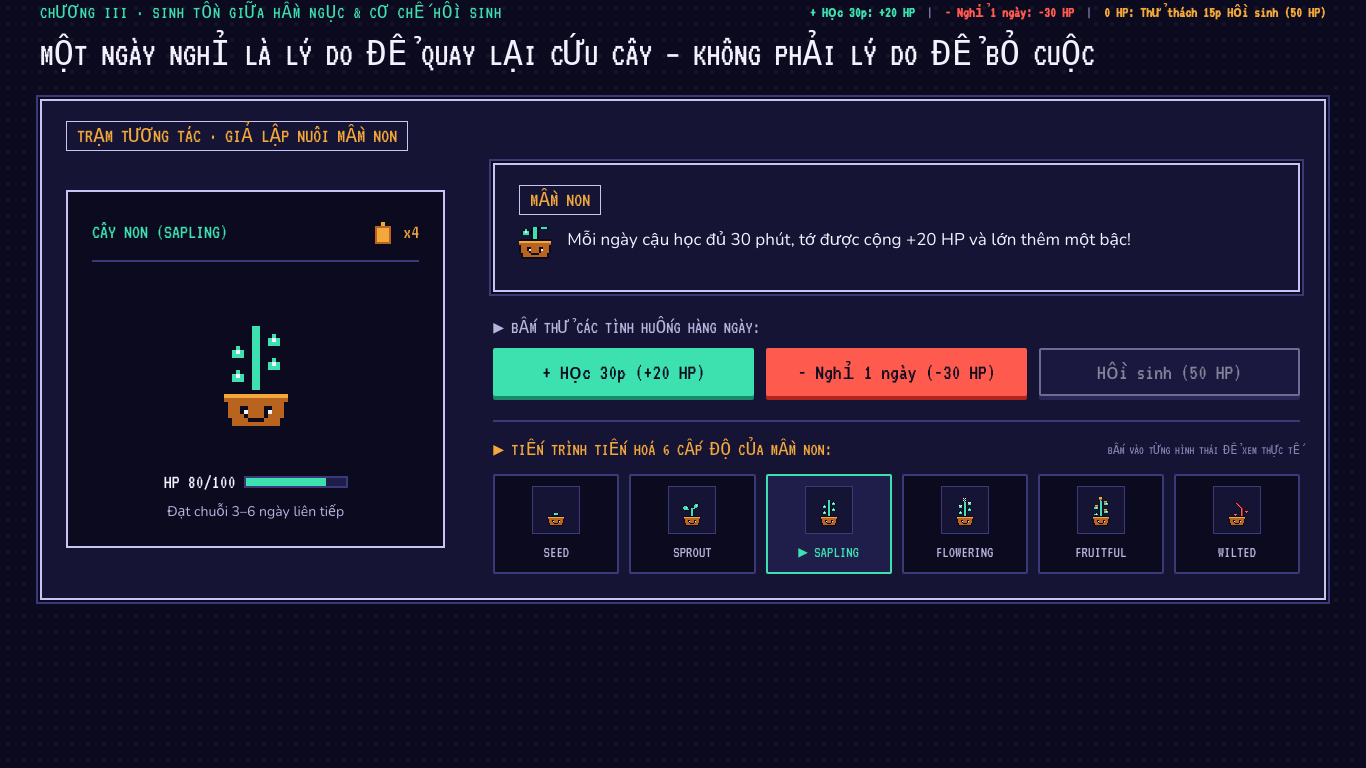
Test case: ChapterThreeCompanion › increments HP (+20) and streak (+1) when clicking + Học 30p
This screenshot has width=1366, height=768.
Click the button "+ Học 30p (+20 HP)". click: (624,372)
box: [493, 348, 754, 396]
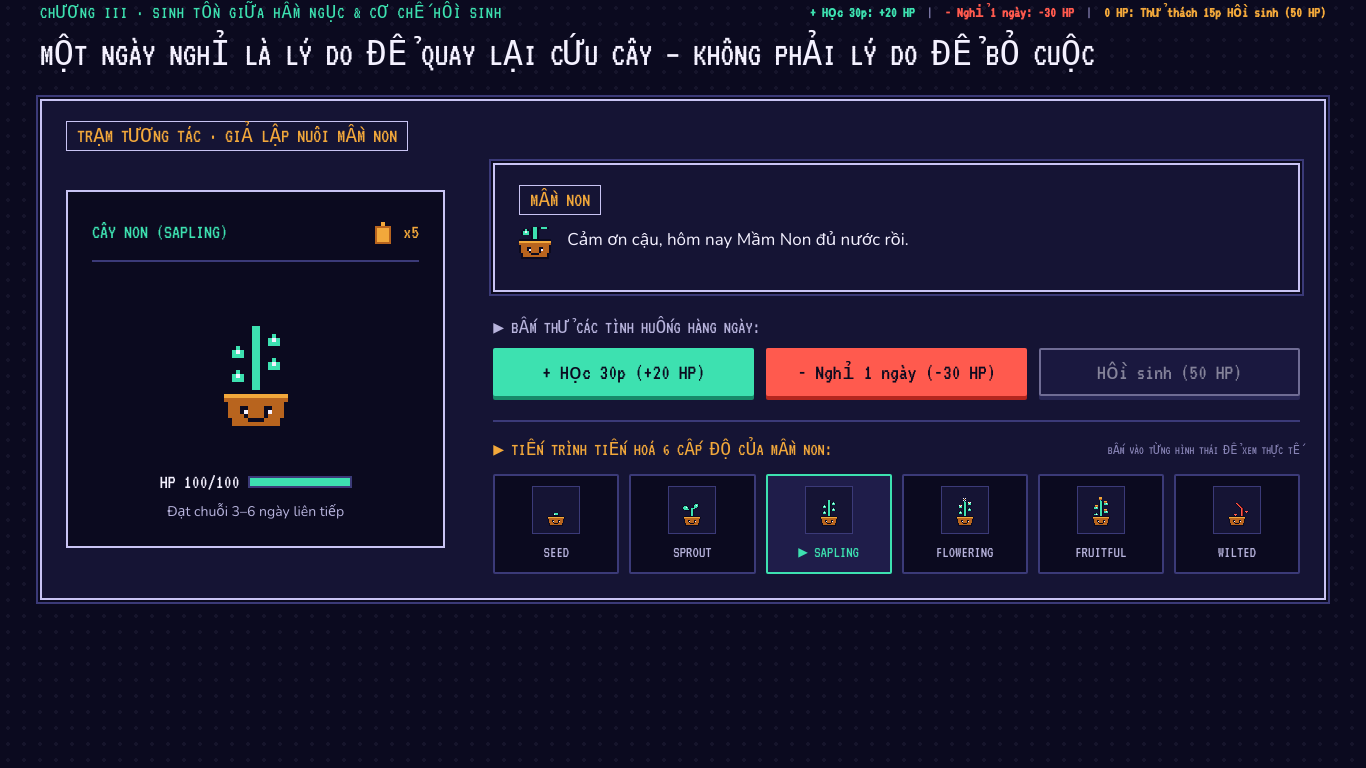
Expected: the text "100/100" is shown, [160, 472, 240, 492]
Expected: the text "x5" is shown, [403, 220, 419, 244]
